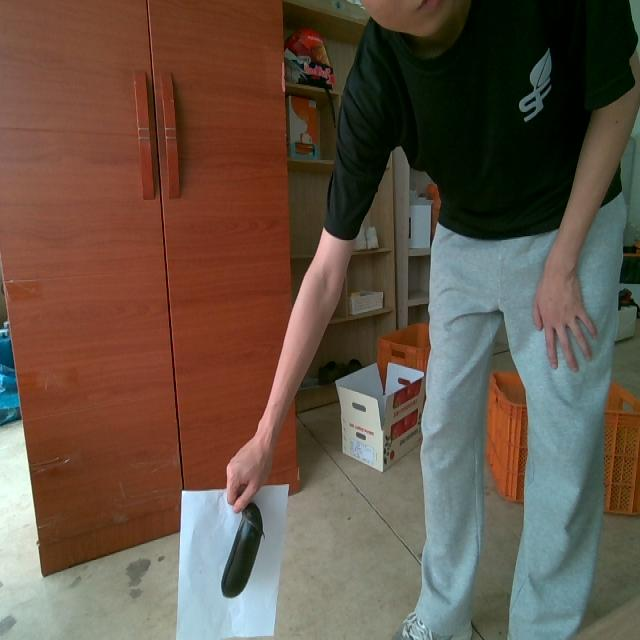Egg plant: (221, 503, 262, 596)
